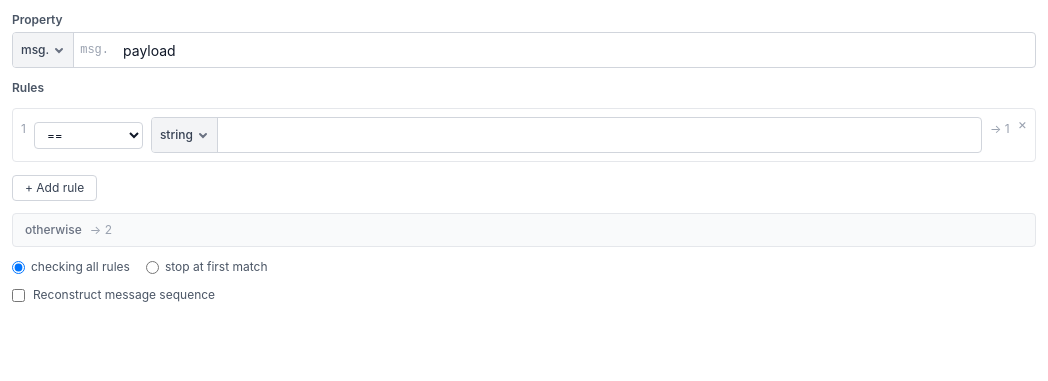
Test case: SwitchEditor › adds a new rule when the add button is clicked
The image size is (1048, 381).
Expected: the element with test id "switch-rule-0" is shown, top-left (12, 108), bottom-right (1036, 162)
Add a rule
Click the button with test id "switch-add-rule": coordinates (55, 188) top-left (12, 175), bottom-right (97, 201)
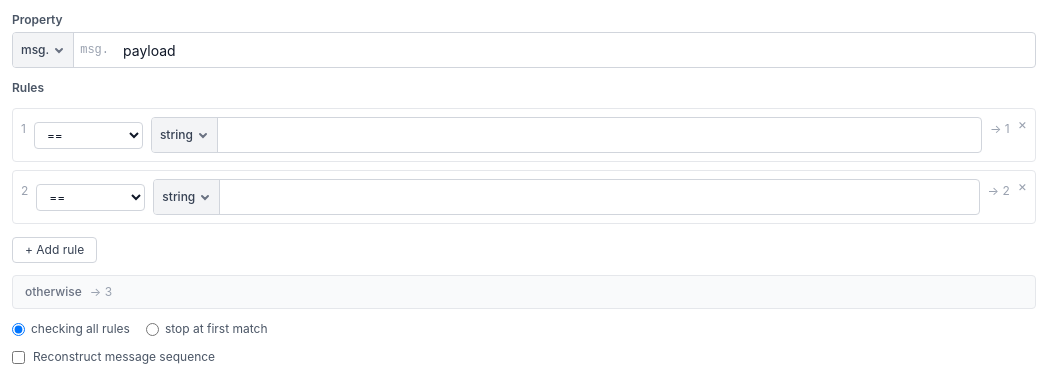
Now the element with test id "switch-rule-1" is shown, box top-left (12, 170), bottom-right (1036, 224)
